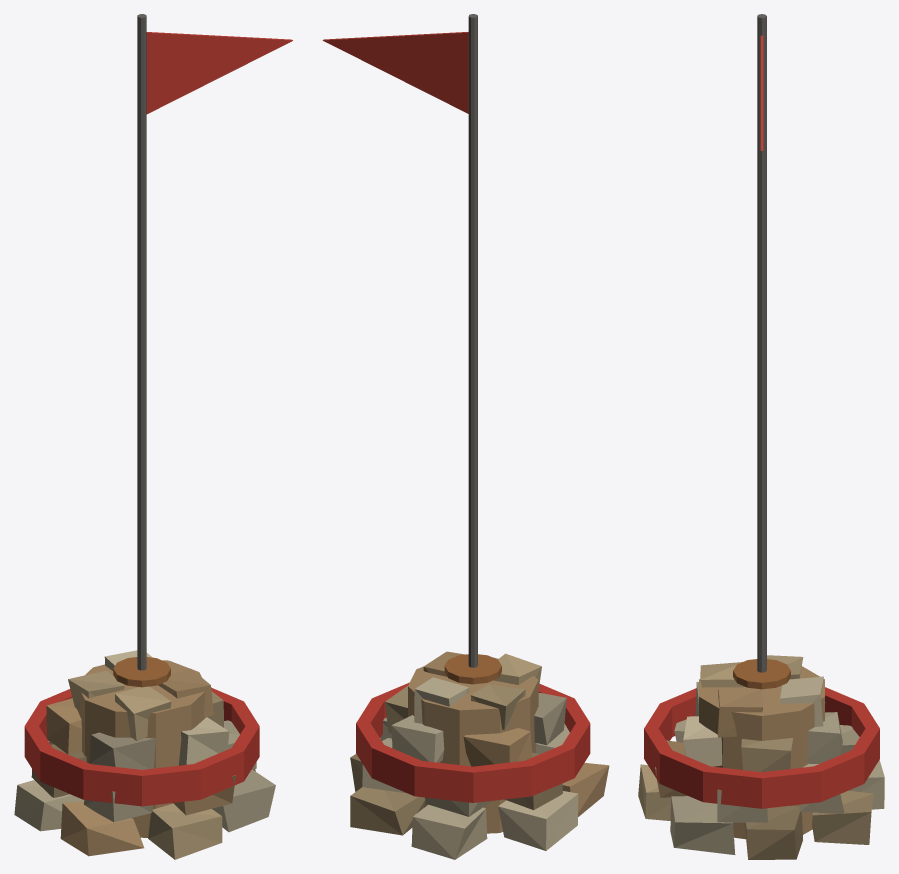
Rendered from dam_survey_gate_red.glb.
3 renders of one model, left to right at view 1: azimuth 30°, elevation 25°; view 2: azimuth 150°, elevation 25°; view 3: azimuth 270°, elevation 25°, orthographic.
Parts seen in each view (by area): view 1: dam_survey_gate_red; view 2: dam_survey_gate_red; view 3: dam_survey_gate_red.
Boxes of the visible parts, <box> form: dam_survey_gate_red: <box>14,14,292,859</box>; dam_survey_gate_red: <box>322,14,609,859</box>; dam_survey_gate_red: <box>638,14,884,859</box>.
Size of the model in its own units: 2.45 by 7.31 by 2.05.
